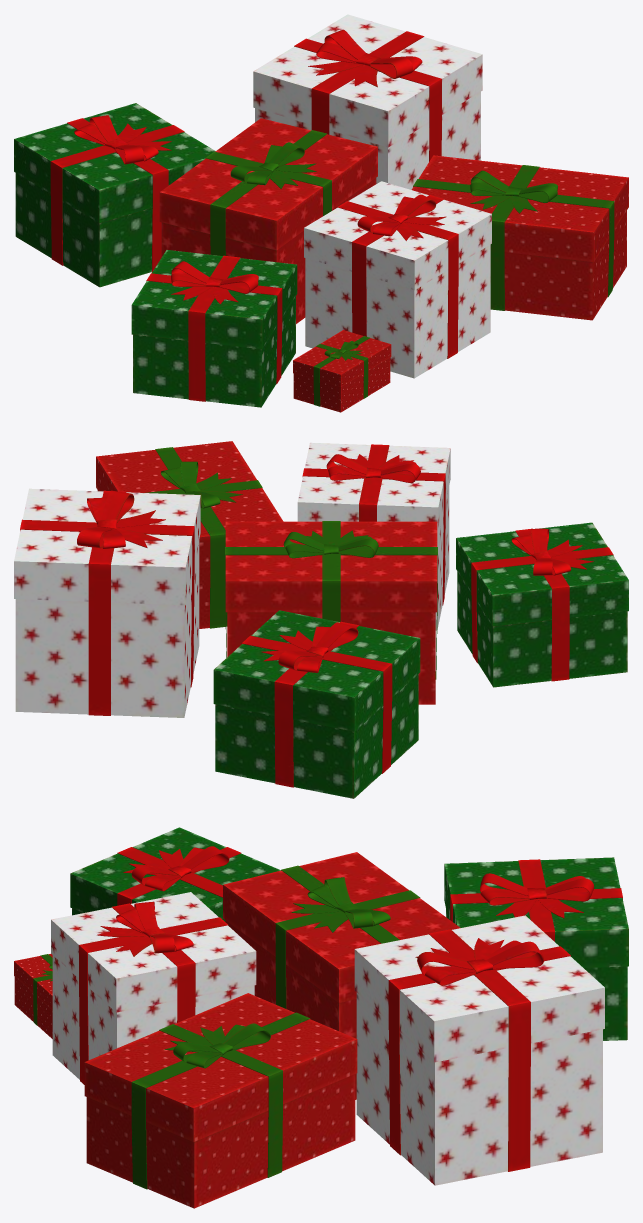
The model's file is xsw_gifts.glb.
3 views of the same model, one above another, from view 1: azimuth 30°, elevation 25°; view 2: azimuth 150°, elevation 25°; view 3: azimuth 270°, elevation 25° (orthographic). The views are drawn at different scales.
Visible parts, largest first — view 1: Christmas_Gift_Extra, Christmas_Gift_01_Christmas_Gifts_0, Christmas_Gift_04_Christmas_Gifts_0, Christmas_Gift_02_Christmas_Gifts_0, Christmas_Gift_03_Christmas_Gifts_0; view 2: Christmas_Gift_Extra, Christmas_Gift_02_Christmas_Gifts_0, Christmas_Gift_03_Christmas_Gifts_0, Christmas_Gift_01_Christmas_Gifts_0, Christmas_Gift_04_Christmas_Gifts_0; view 3: Christmas_Gift_Extra, Christmas_Gift_04_Christmas_Gifts_0, Christmas_Gift_01_Christmas_Gifts_0, Christmas_Gift_03_Christmas_Gifts_0, Christmas_Gift_02_Christmas_Gifts_0.
Boxes of the visible parts, bbox=[...] form: Christmas_Gift_Extra: bbox=[14, 14, 482, 412]; Christmas_Gift_01_Christmas_Gifts_0: bbox=[304, 181, 491, 378]; Christmas_Gift_04_Christmas_Gifts_0: bbox=[411, 155, 628, 320]; Christmas_Gift_02_Christmas_Gifts_0: bbox=[131, 250, 297, 407]; Christmas_Gift_03_Christmas_Gifts_0: bbox=[159, 118, 377, 323]; Christmas_Gift_Extra: bbox=[14, 488, 420, 798]; Christmas_Gift_02_Christmas_Gifts_0: bbox=[456, 522, 628, 687]; Christmas_Gift_03_Christmas_Gifts_0: bbox=[225, 521, 437, 704]; Christmas_Gift_01_Christmas_Gifts_0: bbox=[297, 442, 450, 630]; Christmas_Gift_04_Christmas_Gifts_0: bbox=[96, 441, 283, 628]; Christmas_Gift_Extra: bbox=[14, 857, 628, 1185]; Christmas_Gift_04_Christmas_Gifts_0: bbox=[84, 993, 357, 1208]; Christmas_Gift_01_Christmas_Gifts_0: bbox=[51, 892, 256, 1084]; Christmas_Gift_03_Christmas_Gifts_0: bbox=[223, 852, 460, 1099]; Christmas_Gift_02_Christmas_Gifts_0: bbox=[70, 827, 280, 921].
Size of the model in its own units: 1.33 by 0.4053 by 1.23.
1 material, 1 textured.
